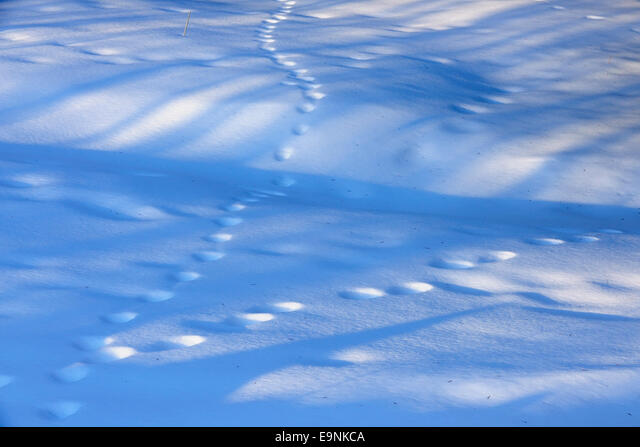fox: (145, 336, 208, 351), (56, 362, 92, 385), (99, 310, 138, 326), (239, 312, 274, 322)
